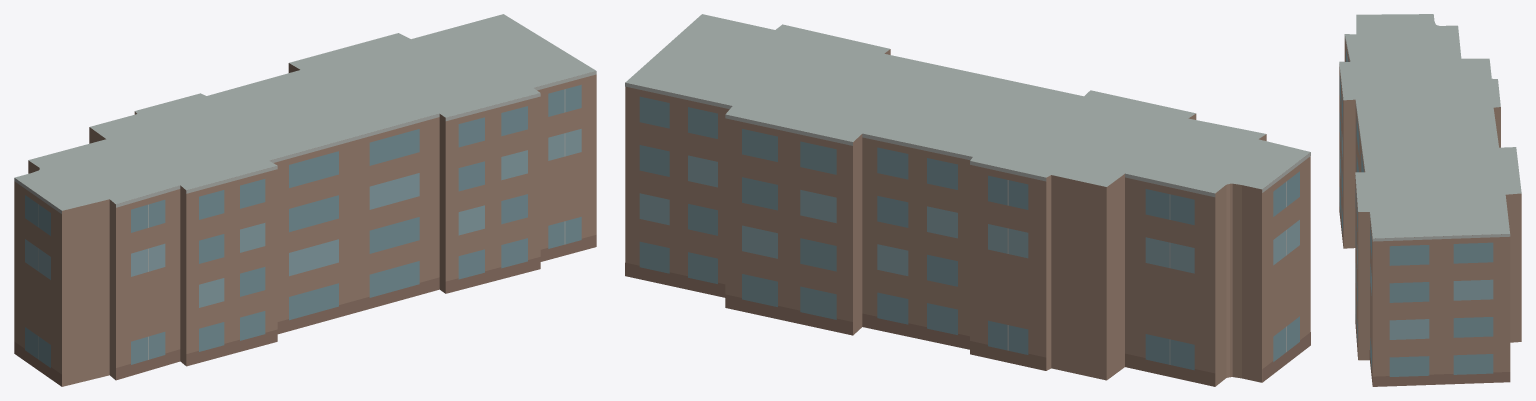
The model's file is survey-upis-32897143.glb.
3 views of the same model, side by side, from view 1: azimuth 30°, elevation 25°; view 2: azimuth 150°, elevation 25°; view 3: azimuth 270°, elevation 25° (orthographic). The views are drawn at different scales.
Visible parts, largest first — view 1: survey-upis-32897143.tmp; view 2: survey-upis-32897143.tmp; view 3: survey-upis-32897143.tmp.
Boxes of the visible parts, bbox=[...] form: survey-upis-32897143.tmp: bbox=[14, 14, 596, 386]; survey-upis-32897143.tmp: bbox=[625, 14, 1310, 386]; survey-upis-32897143.tmp: bbox=[1339, 14, 1521, 386].
Bounding box in the file's own units: 39.6 × 12.2 × 13.6.
